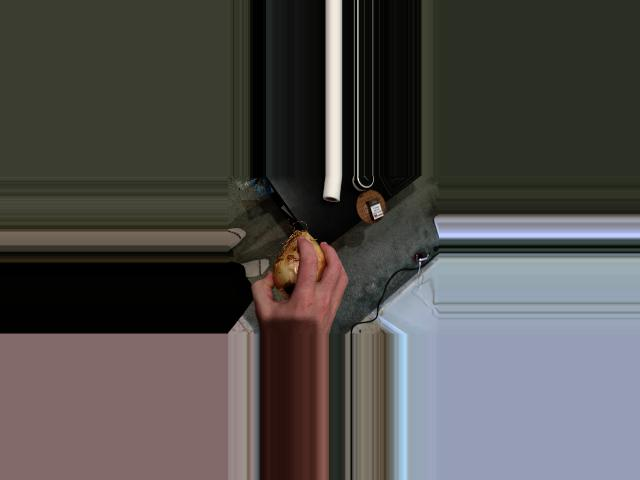onion: (271, 232, 324, 292)
